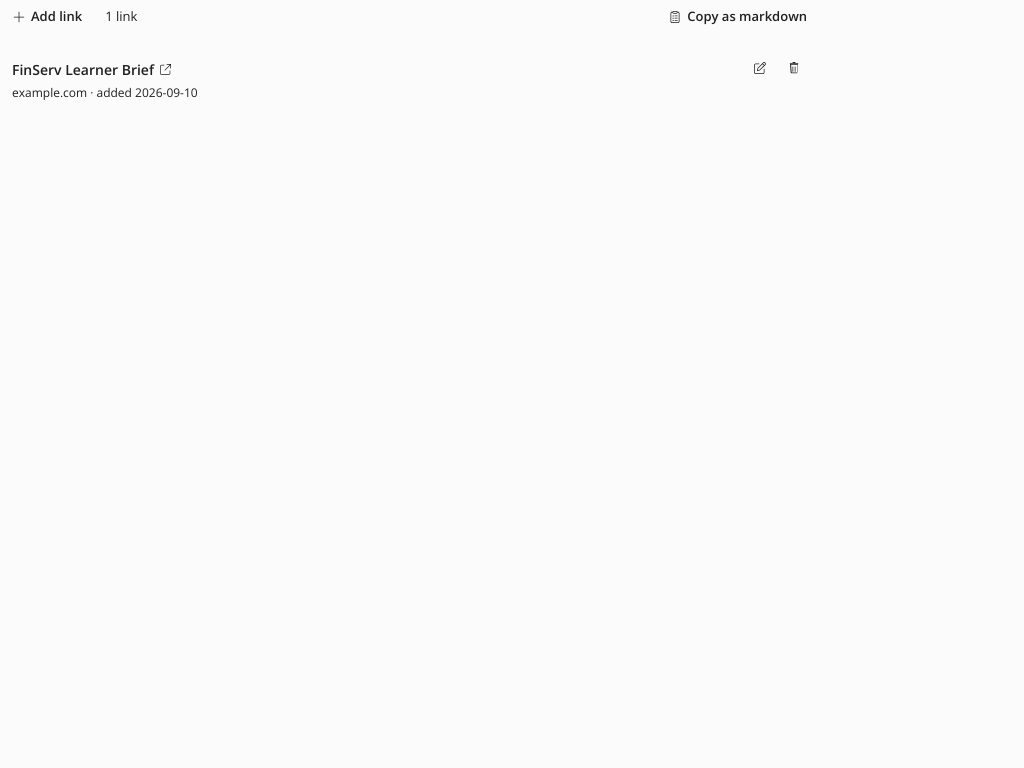
it: LinksPanel › keeps the form behind a CTA rather than on the page
The image size is (1024, 768).
Expected: the text "1 link" is shown, left=105, top=7, right=137, bottom=26
Expected: the field labelled "Address" is not shown
Click the button "Add link" at {"x": 48, "y": 17}, box left=0, top=0, right=95, bottom=34
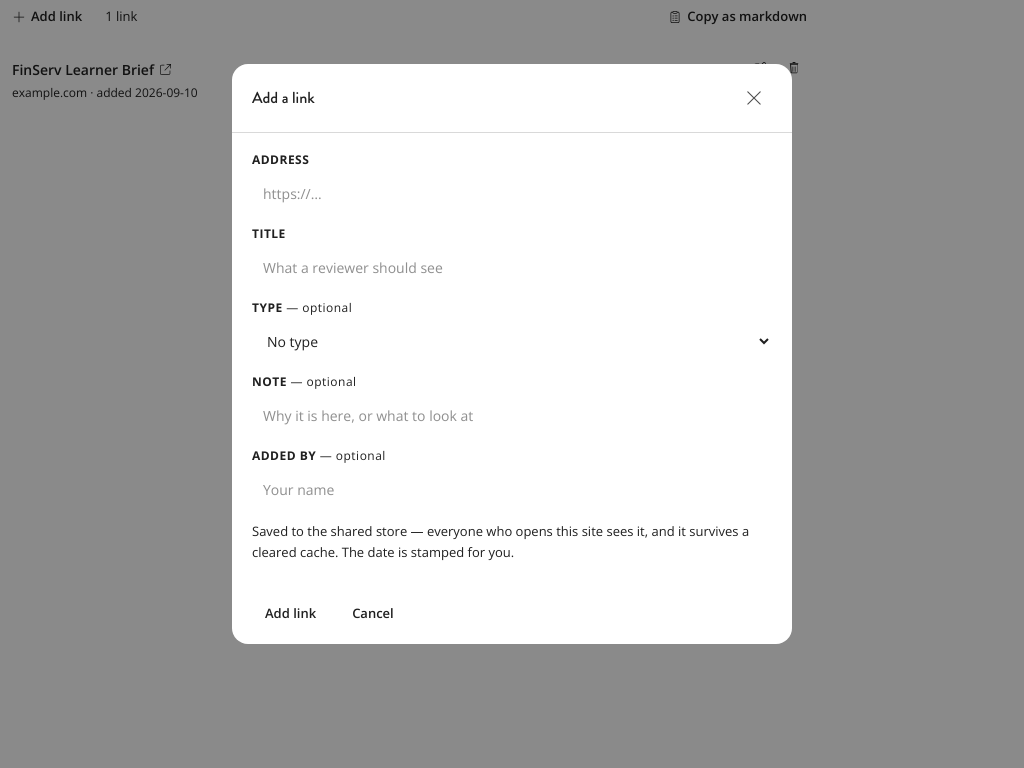
Expected: the dialog is shown, left=232, top=64, right=792, bottom=644
Expected: the field labelled "Address" is shown, left=252, top=174, right=772, bottom=213
Click the button "Cancel" at {"x": 373, "y": 613}, box left=339, top=597, right=407, bottom=630
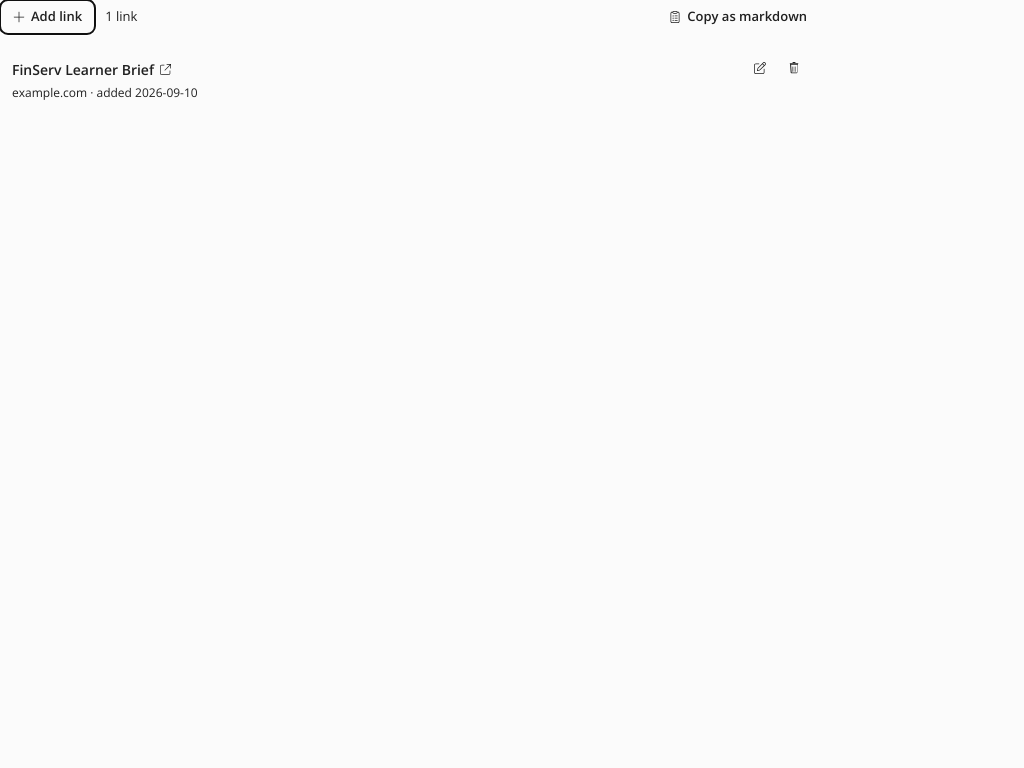
Expected: the dialog is gone
